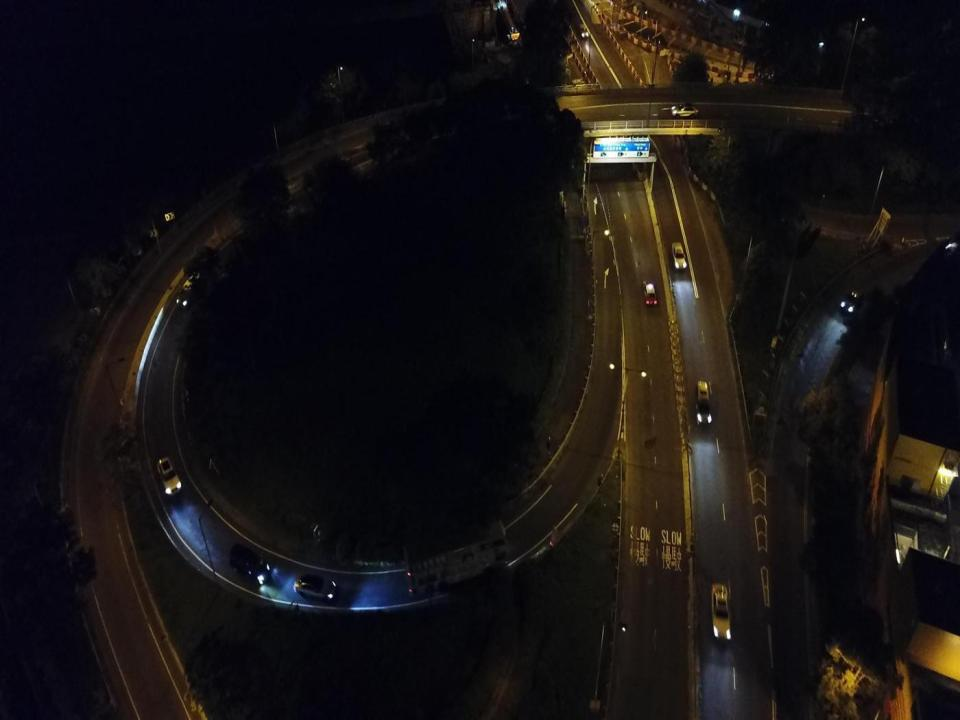bus: (402, 517, 507, 596)
car: (293, 572, 336, 601), (711, 583, 731, 640), (176, 271, 203, 307), (157, 457, 182, 495), (841, 289, 864, 317), (672, 101, 699, 119), (672, 242, 686, 272), (644, 282, 657, 306), (579, 22, 589, 38)
van: (229, 541, 271, 584), (696, 380, 712, 425)
